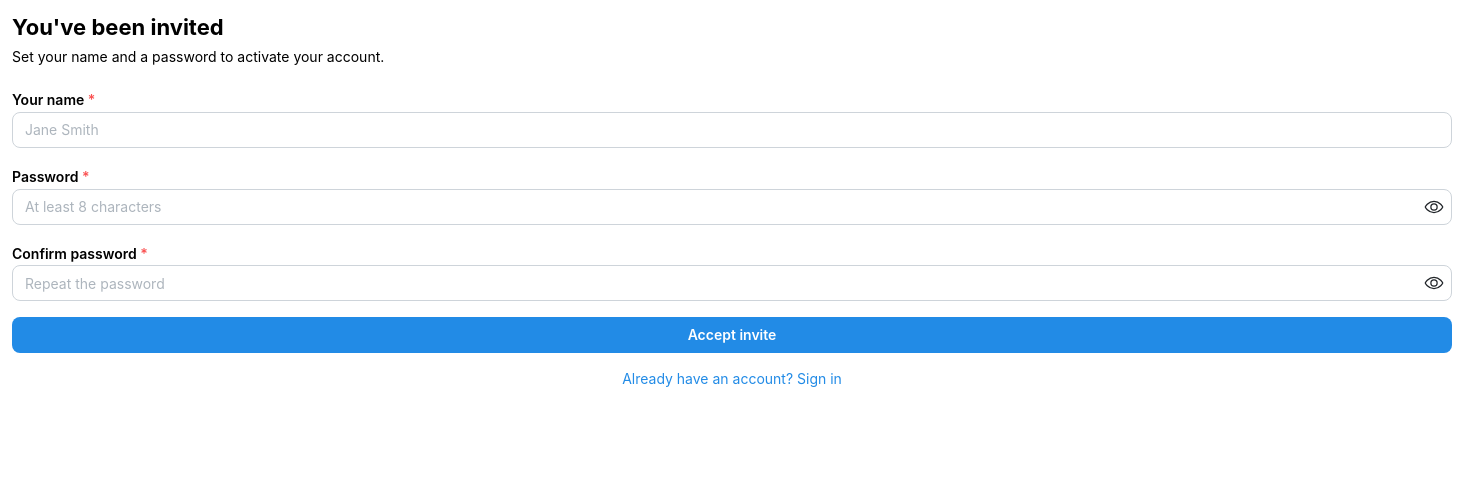
Test case: <InviteAcceptanceForm> › renders error on 410 token-invalid
This screenshot has width=1464, height=480.
Type "X" into the field with test id "invite-name-input".
click(732, 130); type("X")  # box [12,112,1452,148]
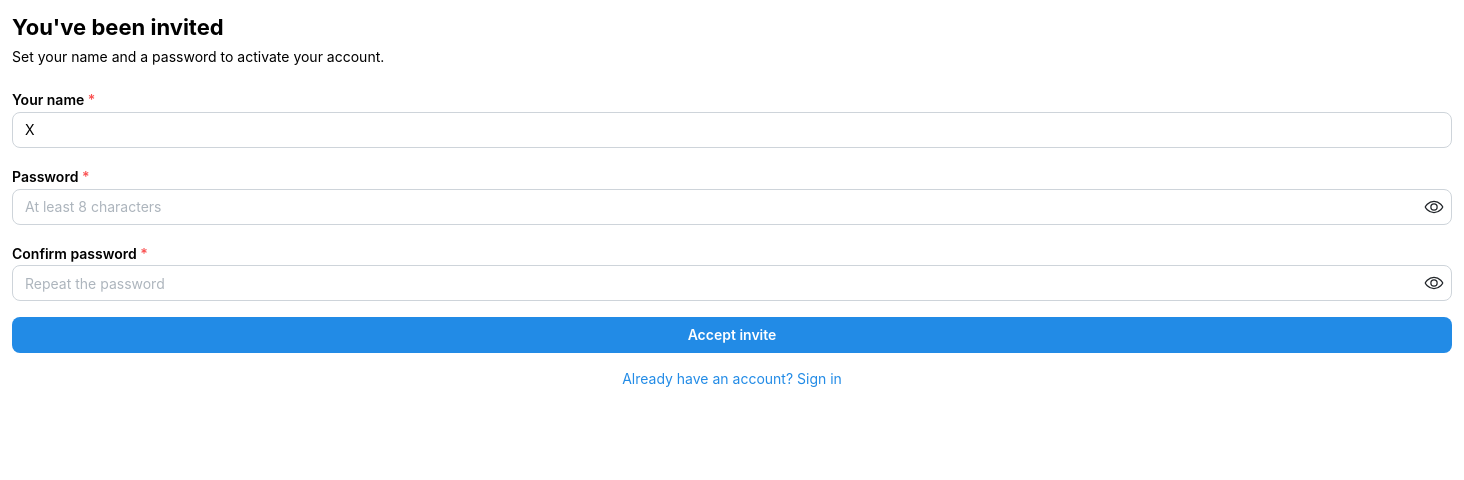
Type "TestRoot1234!" into the password field with test id "invite-password-input".
click(732, 207); type("TestRoot1234!")  # box [13,190,1451,224]
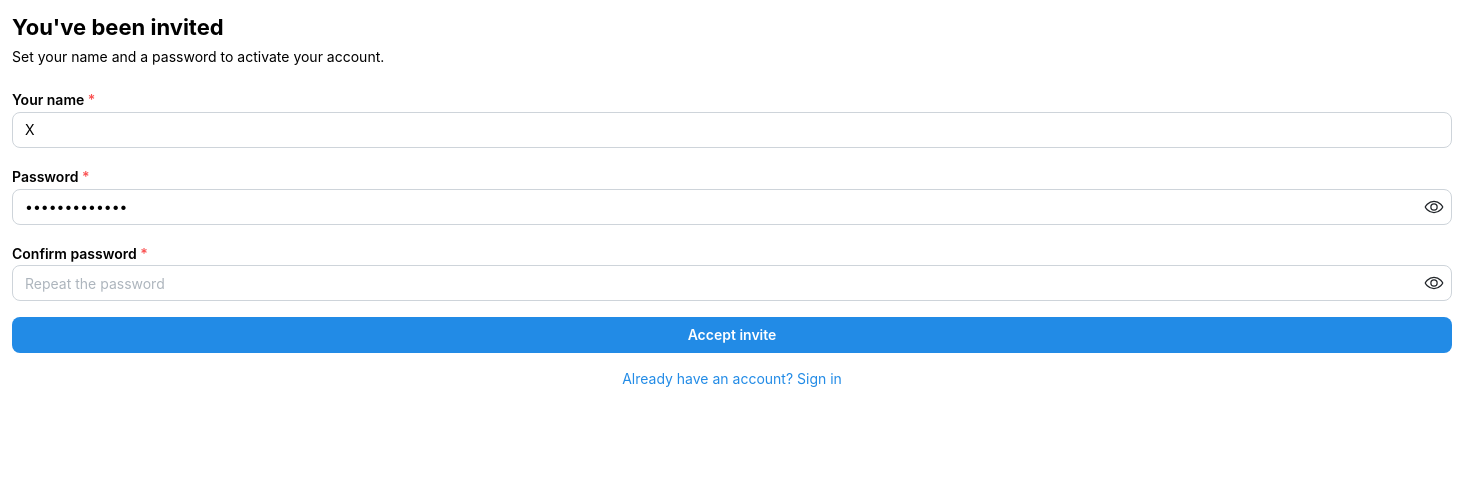
Type "TestRoot1234!" into the password field with test id "invite-confirm-input".
click(732, 284); type("TestRoot1234!")  # box [13,266,1451,300]
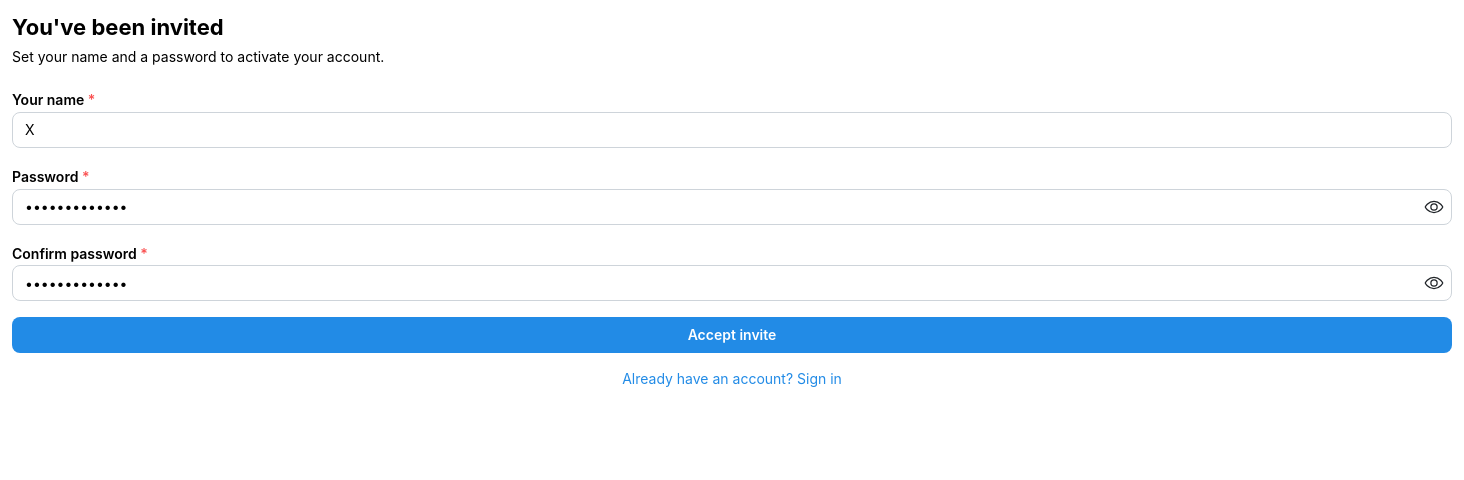
Click the button with test id "invite-submit".
click(732, 336)  # box [12,318,1452,354]
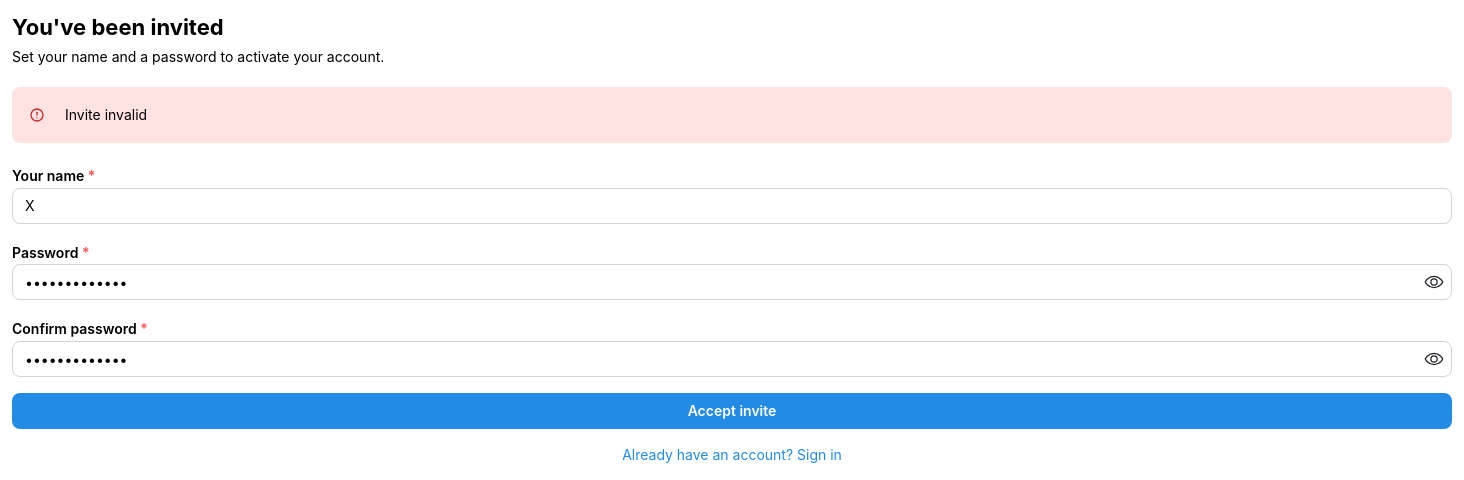
Expected: the message "Invite invalid" is shown, [12,87,1452,143]
